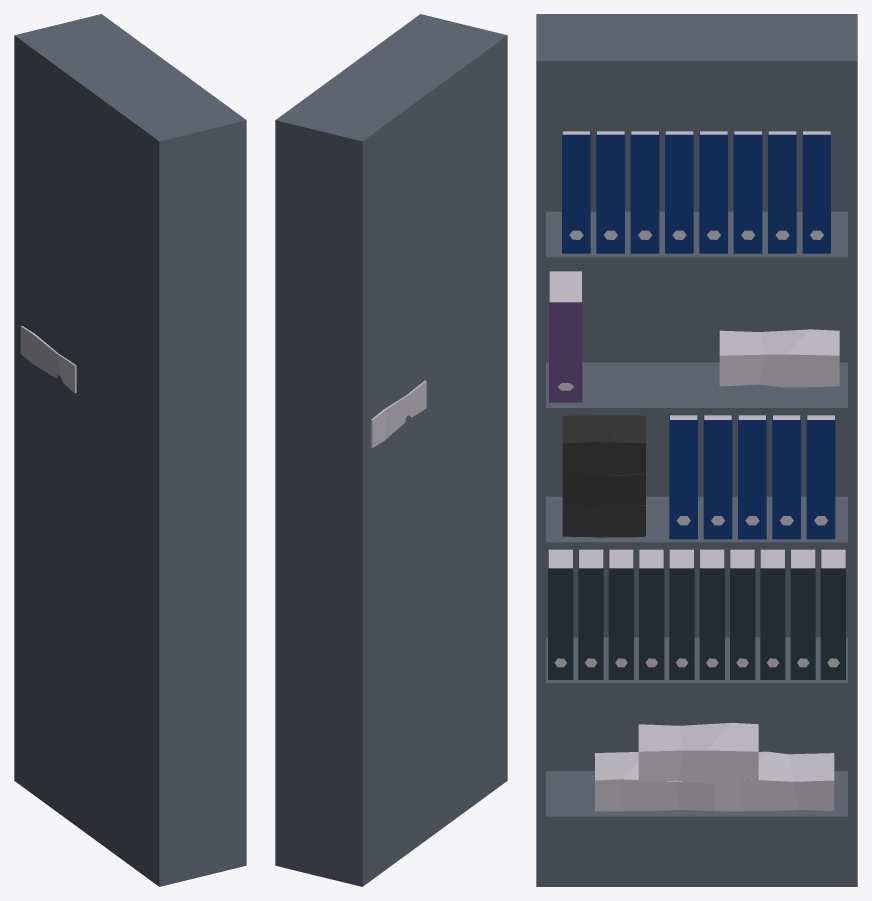
Rendered from cabinet8.fbx.
The picture shows the model from 3 angles, left to right: view 1: azimuth 30°, elevation 25°; view 2: azimuth 150°, elevation 25°; view 3: azimuth 270°, elevation 25°; orthographic projection. The views are drawn at different scales.
Visible parts, largest first — view 1: Cabinet1.014, Cabinet1.015, Cabinet1.016, Cube.176; view 2: Cabinet1.014, Cabinet1.015, Cabinet1.016, Cube.176; view 3: Cabinet1.014, Cabinet1.016, Cabinet1.015, Book0.008, Book0.006, Book0.007, Cube.172, Cube.176, Cube.171, Cube.175, Cube.170, Book0.009 (+2 smaller).
Boxes of the visible parts, box(x1,y1,x2,y2) form: Cabinet1.014: box(14, 471, 246, 886); Cabinet1.015: box(14, 219, 246, 576); Cabinet1.016: box(14, 14, 246, 324); Cube.176: box(20, 326, 76, 393); Cabinet1.014: box(275, 470, 507, 886); Cabinet1.015: box(275, 219, 507, 576); Cabinet1.016: box(275, 14, 507, 324); Cube.176: box(370, 380, 426, 447); Cabinet1.014: box(536, 496, 857, 886); Cabinet1.016: box(536, 14, 857, 263); Cabinet1.015: box(536, 264, 857, 544); Book0.008: box(548, 549, 845, 679); Book0.006: box(562, 131, 830, 253); Book0.007: box(669, 415, 835, 539); Cube.172: box(638, 722, 758, 783); Cube.176: box(719, 329, 839, 387); Cube.171: box(714, 751, 834, 811); Cube.175: box(562, 415, 645, 474); Cube.170: box(595, 752, 714, 811); Book0.009: box(549, 271, 582, 402).
Bounding box in the file's own units: 0.1919 × 1.53 × 0.5406.
